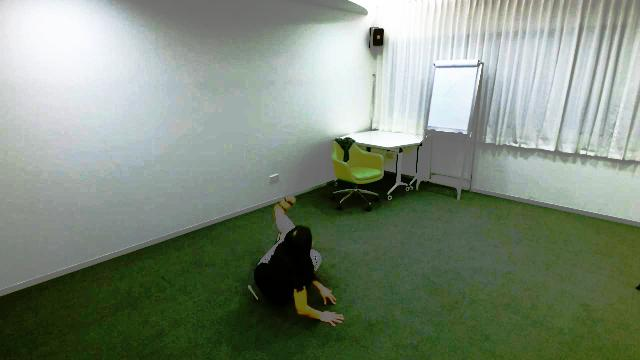jatuh: (248, 189, 346, 335)
